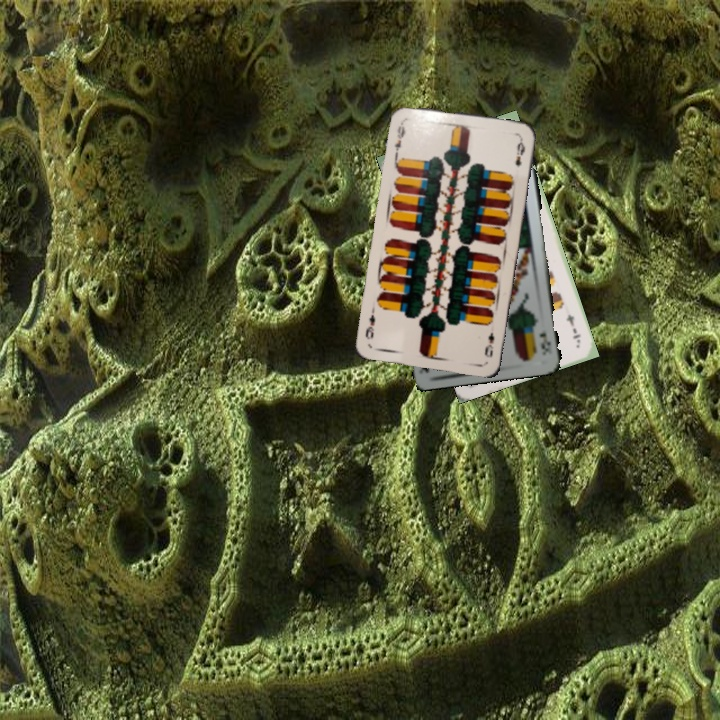E7: (562, 310, 583, 346)
E9: (391, 117, 408, 157), (480, 328, 497, 360)
EK: (535, 328, 553, 358)
